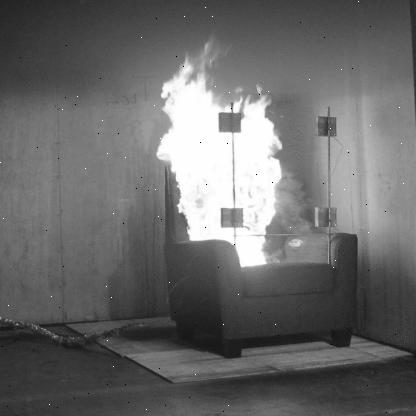fire: (152, 43, 286, 266)
smoke: (0, 1, 410, 125)
